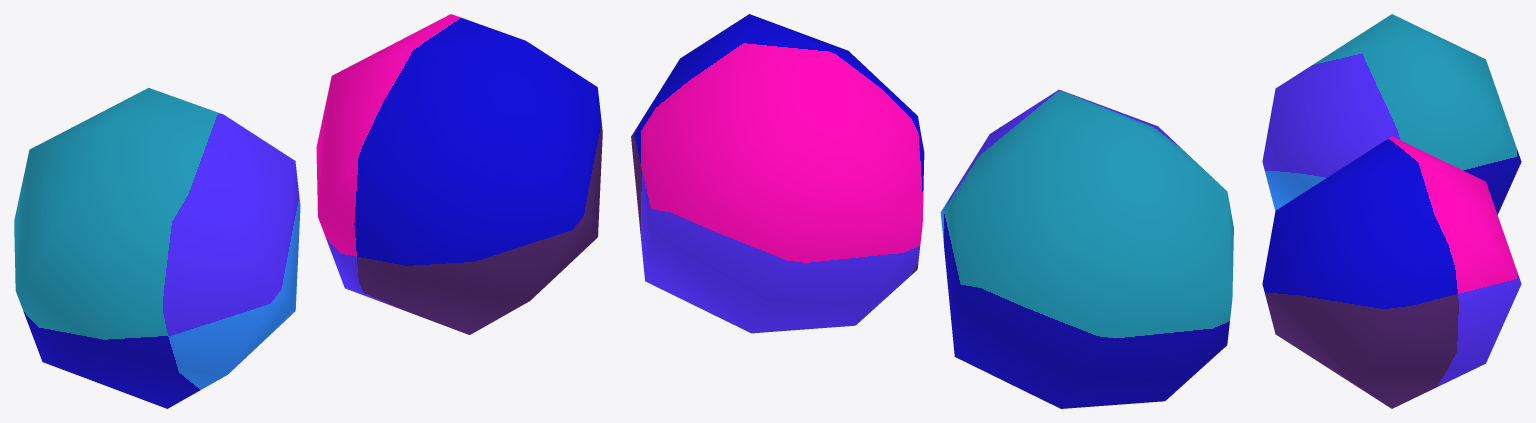
File: escaperoom.glb
3 views of the same model, side by side, from view 1: azimuth 30°, elevation 25°; view 2: azimuth 150°, elevation 25°; view 3: azimuth 270°, elevation 25° (orthographic). The views are drawn at different scales.
Parts seen in each view (by area): view 1: backdrop.001, backdrop; view 2: backdrop, backdrop.001; view 3: backdrop.001, backdrop.
Part boxes in pixels (x1,y1,x2,y2): backdrop.001: [316, 14, 602, 334]; backdrop: [14, 88, 300, 408]; backdrop: [940, 89, 1233, 408]; backdrop.001: [631, 14, 924, 333]; backdrop.001: [1262, 136, 1521, 408]; backdrop: [1262, 14, 1521, 214].
Bounding box in the file's own units: 130 × 60.28 × 60.19.
7 materials, 5 textured.
